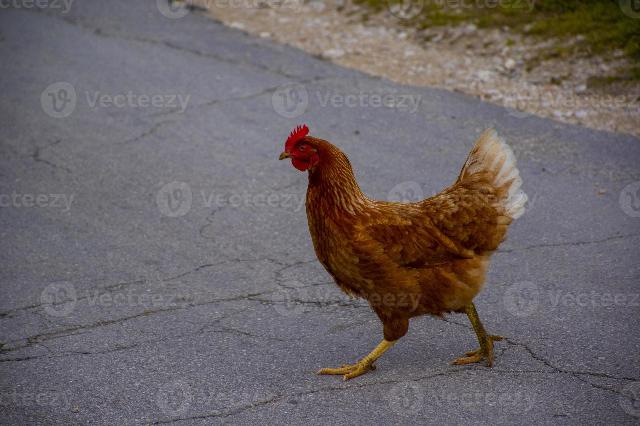Chicken: (278, 123, 528, 379)
